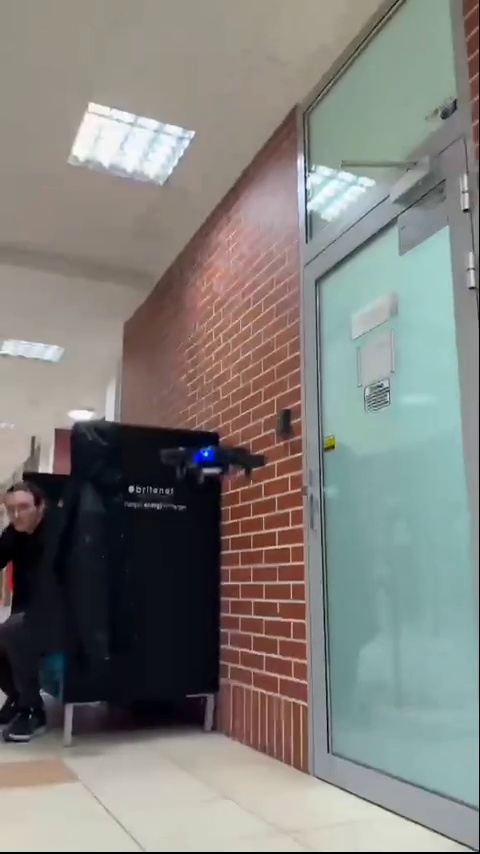drone: (158, 434, 264, 485)
no vest: (0, 482, 77, 740)
